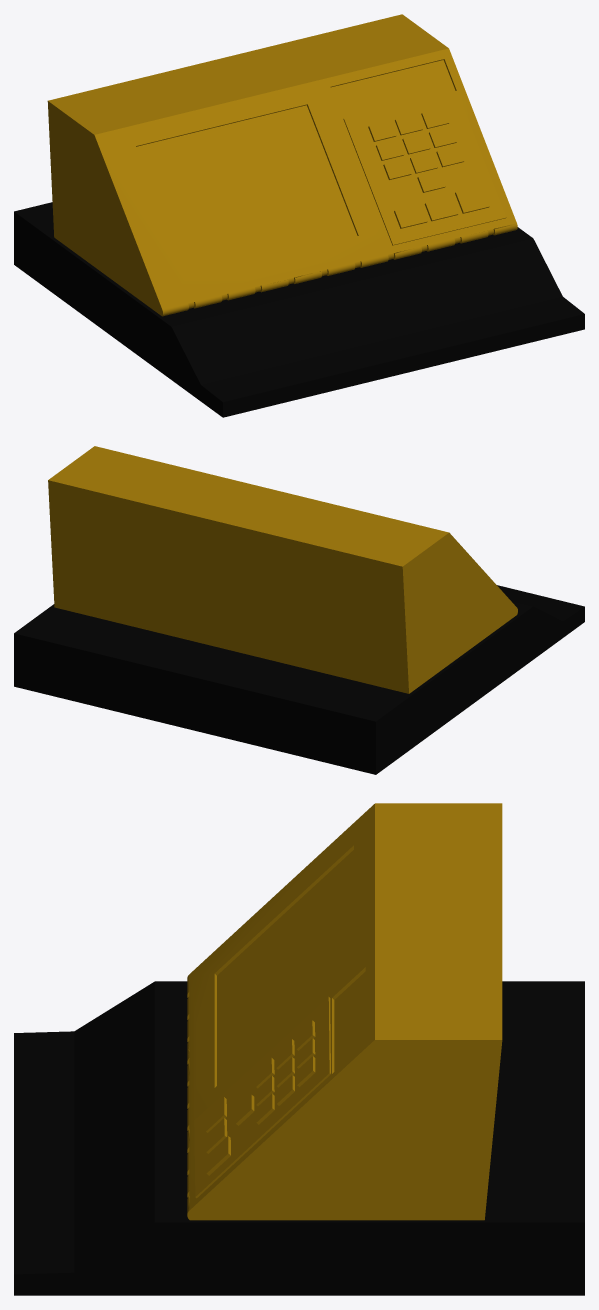
3 views of the same model, one above another, from view 1: azimuth 30°, elevation 25°; view 2: azimuth 150°, elevation 25°; view 3: azimuth 270°, elevation 25° (orthographic). The views are drawn at different scales.
Visible parts, largest first — view 1: urna, base.010; view 2: urna, base.010; view 3: urna, base.010.
Part boxes in pixels (x1=…): urna: x1=47, y1=14, x2=517, y2=316; base.010: x1=14, y1=202, x2=584, y2=417; urna: x1=48, y1=446, x2=517, y2=693; base.010: x1=14, y1=585, x2=584, y2=774; urna: x1=187, y1=803, x2=502, y2=1220; base.010: x1=14, y1=981, x2=584, y2=1295.
Size of the model in its own units: 79.88 by 39.07 by 79.88.
